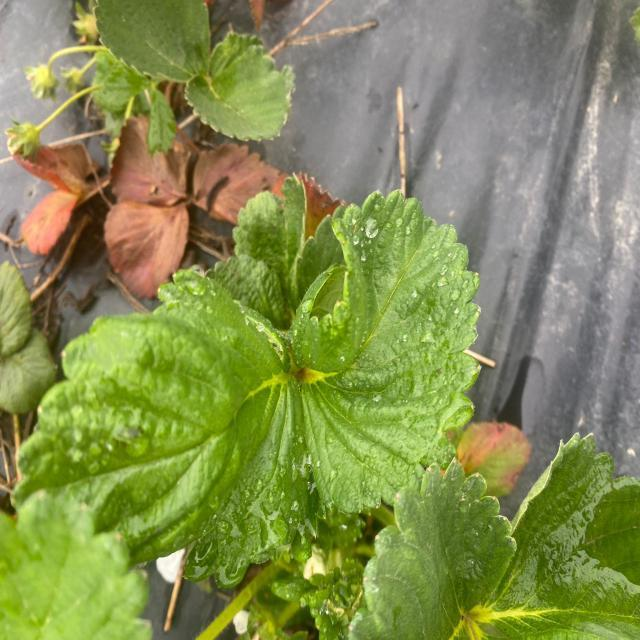flower: (8, 170, 492, 565), (363, 423, 635, 640), (90, 0, 297, 147)
